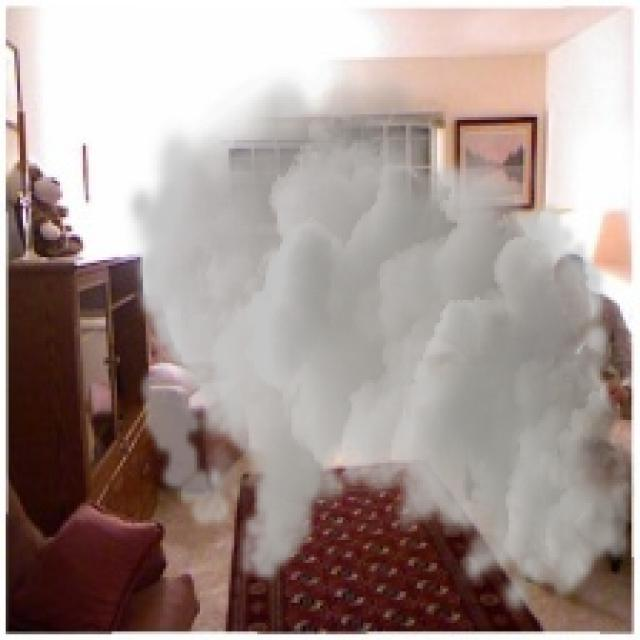smoke: (123, 54, 637, 620)
